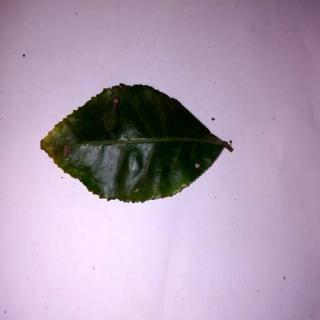Anthracnose: (40, 85, 235, 204)
